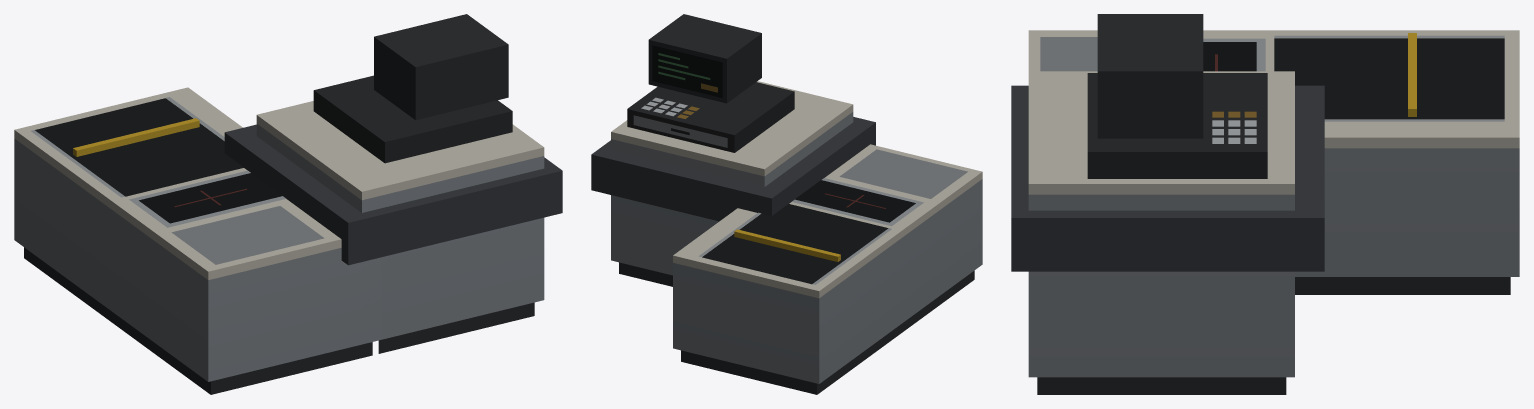
The model's file is shop.checkout.grey.glb.
3 views of the same model, side by side, from view 1: azimuth 30°, elevation 25°; view 2: azimuth 150°, elevation 25°; view 3: azimuth 270°, elevation 25° (orthographic). The views are drawn at different scales.
Parts seen in each view (by area): view 1: shop_checkout_grey; view 2: shop_checkout_grey; view 3: shop_checkout_grey.
Part boxes in pixels (x1,y1,x2,y2): shop_checkout_grey: (14,14,562,394); shop_checkout_grey: (591,14,982,394); shop_checkout_grey: (1011,14,1519,394).
Size of what is drawn, in the model's own units: 1.72 by 1.2 by 1.72.
